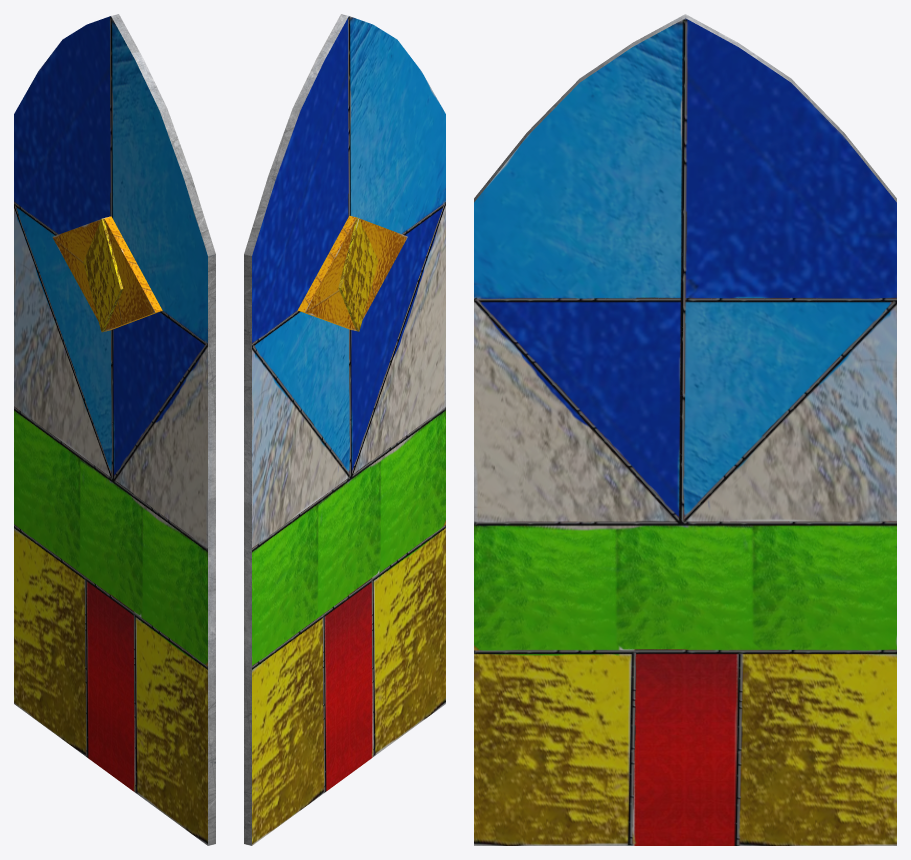
File: StainedGlassExport.fbx
The picture shows the model from 3 angles, left to right: view 1: azimuth 30°, elevation 25°; view 2: azimuth 150°, elevation 25°; view 3: azimuth 270°, elevation 25°; orthographic projection. The views are drawn at different scales.
Parts seen in each view (by area): view 1: Glass, pCube2, pCube3; view 2: Glass, pCube2, pCube3; view 3: Glass.
Part boxes in pixels (x1,y1,x2,y2): Glass: (14,14,215,845); pCube2: (52,216,162,331); pCube3: (83,218,123,332); Glass: (244,14,445,845); pCube2: (297,215,407,330); pCube3: (338,217,378,331); Glass: (474,14,896,845).
Size of the model in its own units: 0.2334 by 9.43 by 4.37.
1 material, 1 textured.
